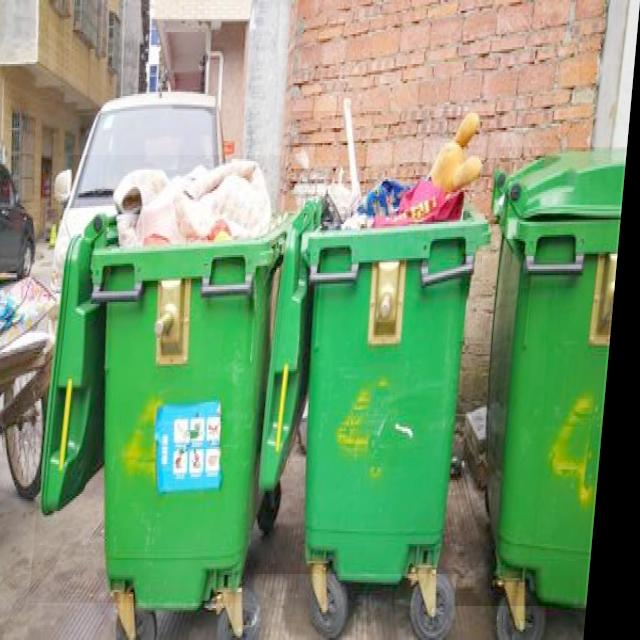garbage_bin: (466, 147, 628, 606)
overflow: (40, 156, 295, 604), (262, 111, 506, 574)
